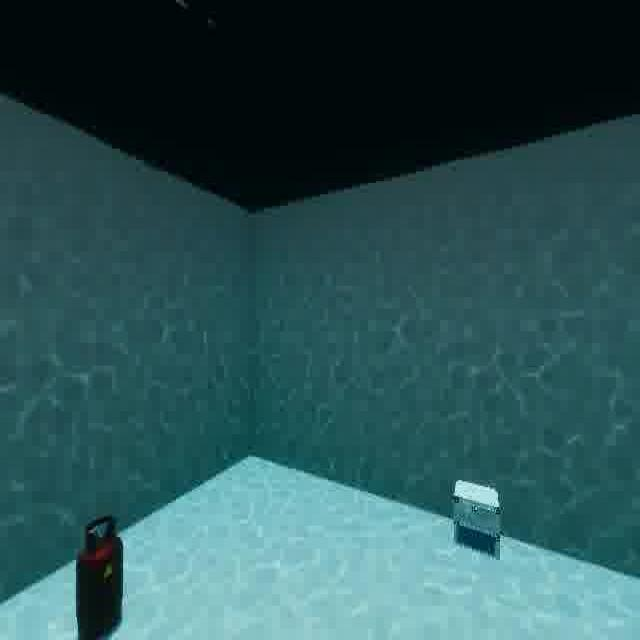Cylinder: (69, 501, 133, 640)
Docking Station: (446, 472, 509, 570)
